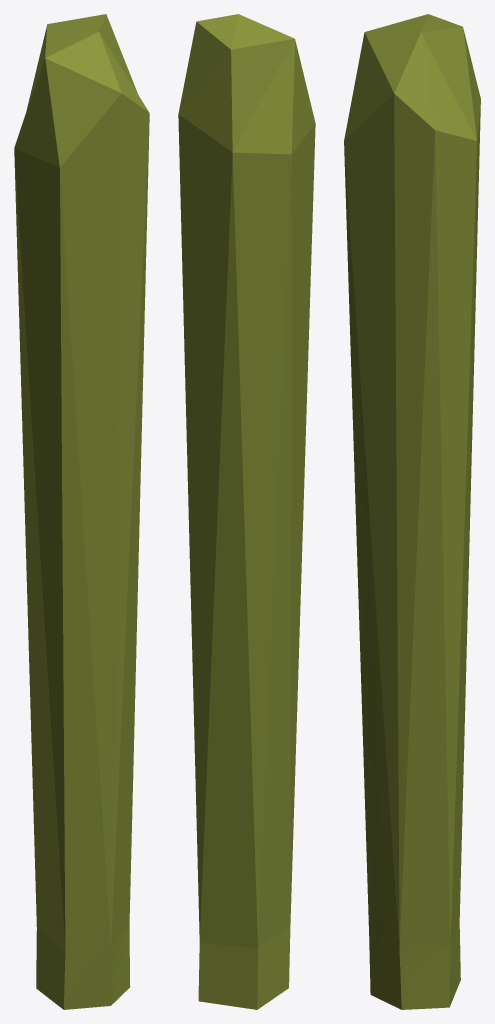
File: ea_swamp_grass_01a_pre__11__lev1.glb
The picture shows the model from 3 angles, left to right: view 1: azimuth 30°, elevation 25°; view 2: azimuth 150°, elevation 25°; view 3: azimuth 330°, elevation 25°; orthographic projection.
Parts seen in each view (by area): view 1: ea_swamp_grass_01a_pre__11__lev1; view 2: ea_swamp_grass_01a_pre__11__lev1; view 3: ea_swamp_grass_01a_pre__11__lev1.
Boxes of the visible parts, x1=… form: ea_swamp_grass_01a_pre__11__lev1: x1=14, y1=14, x2=149, y2=1009; ea_swamp_grass_01a_pre__11__lev1: x1=178, y1=14, x2=315, y2=1009; ea_swamp_grass_01a_pre__11__lev1: x1=344, y1=14, x2=480, y2=1009.
Bounding box in the file's own units: 0.3744 × 2.86 × 0.3446.
1 material, 1 textured.
